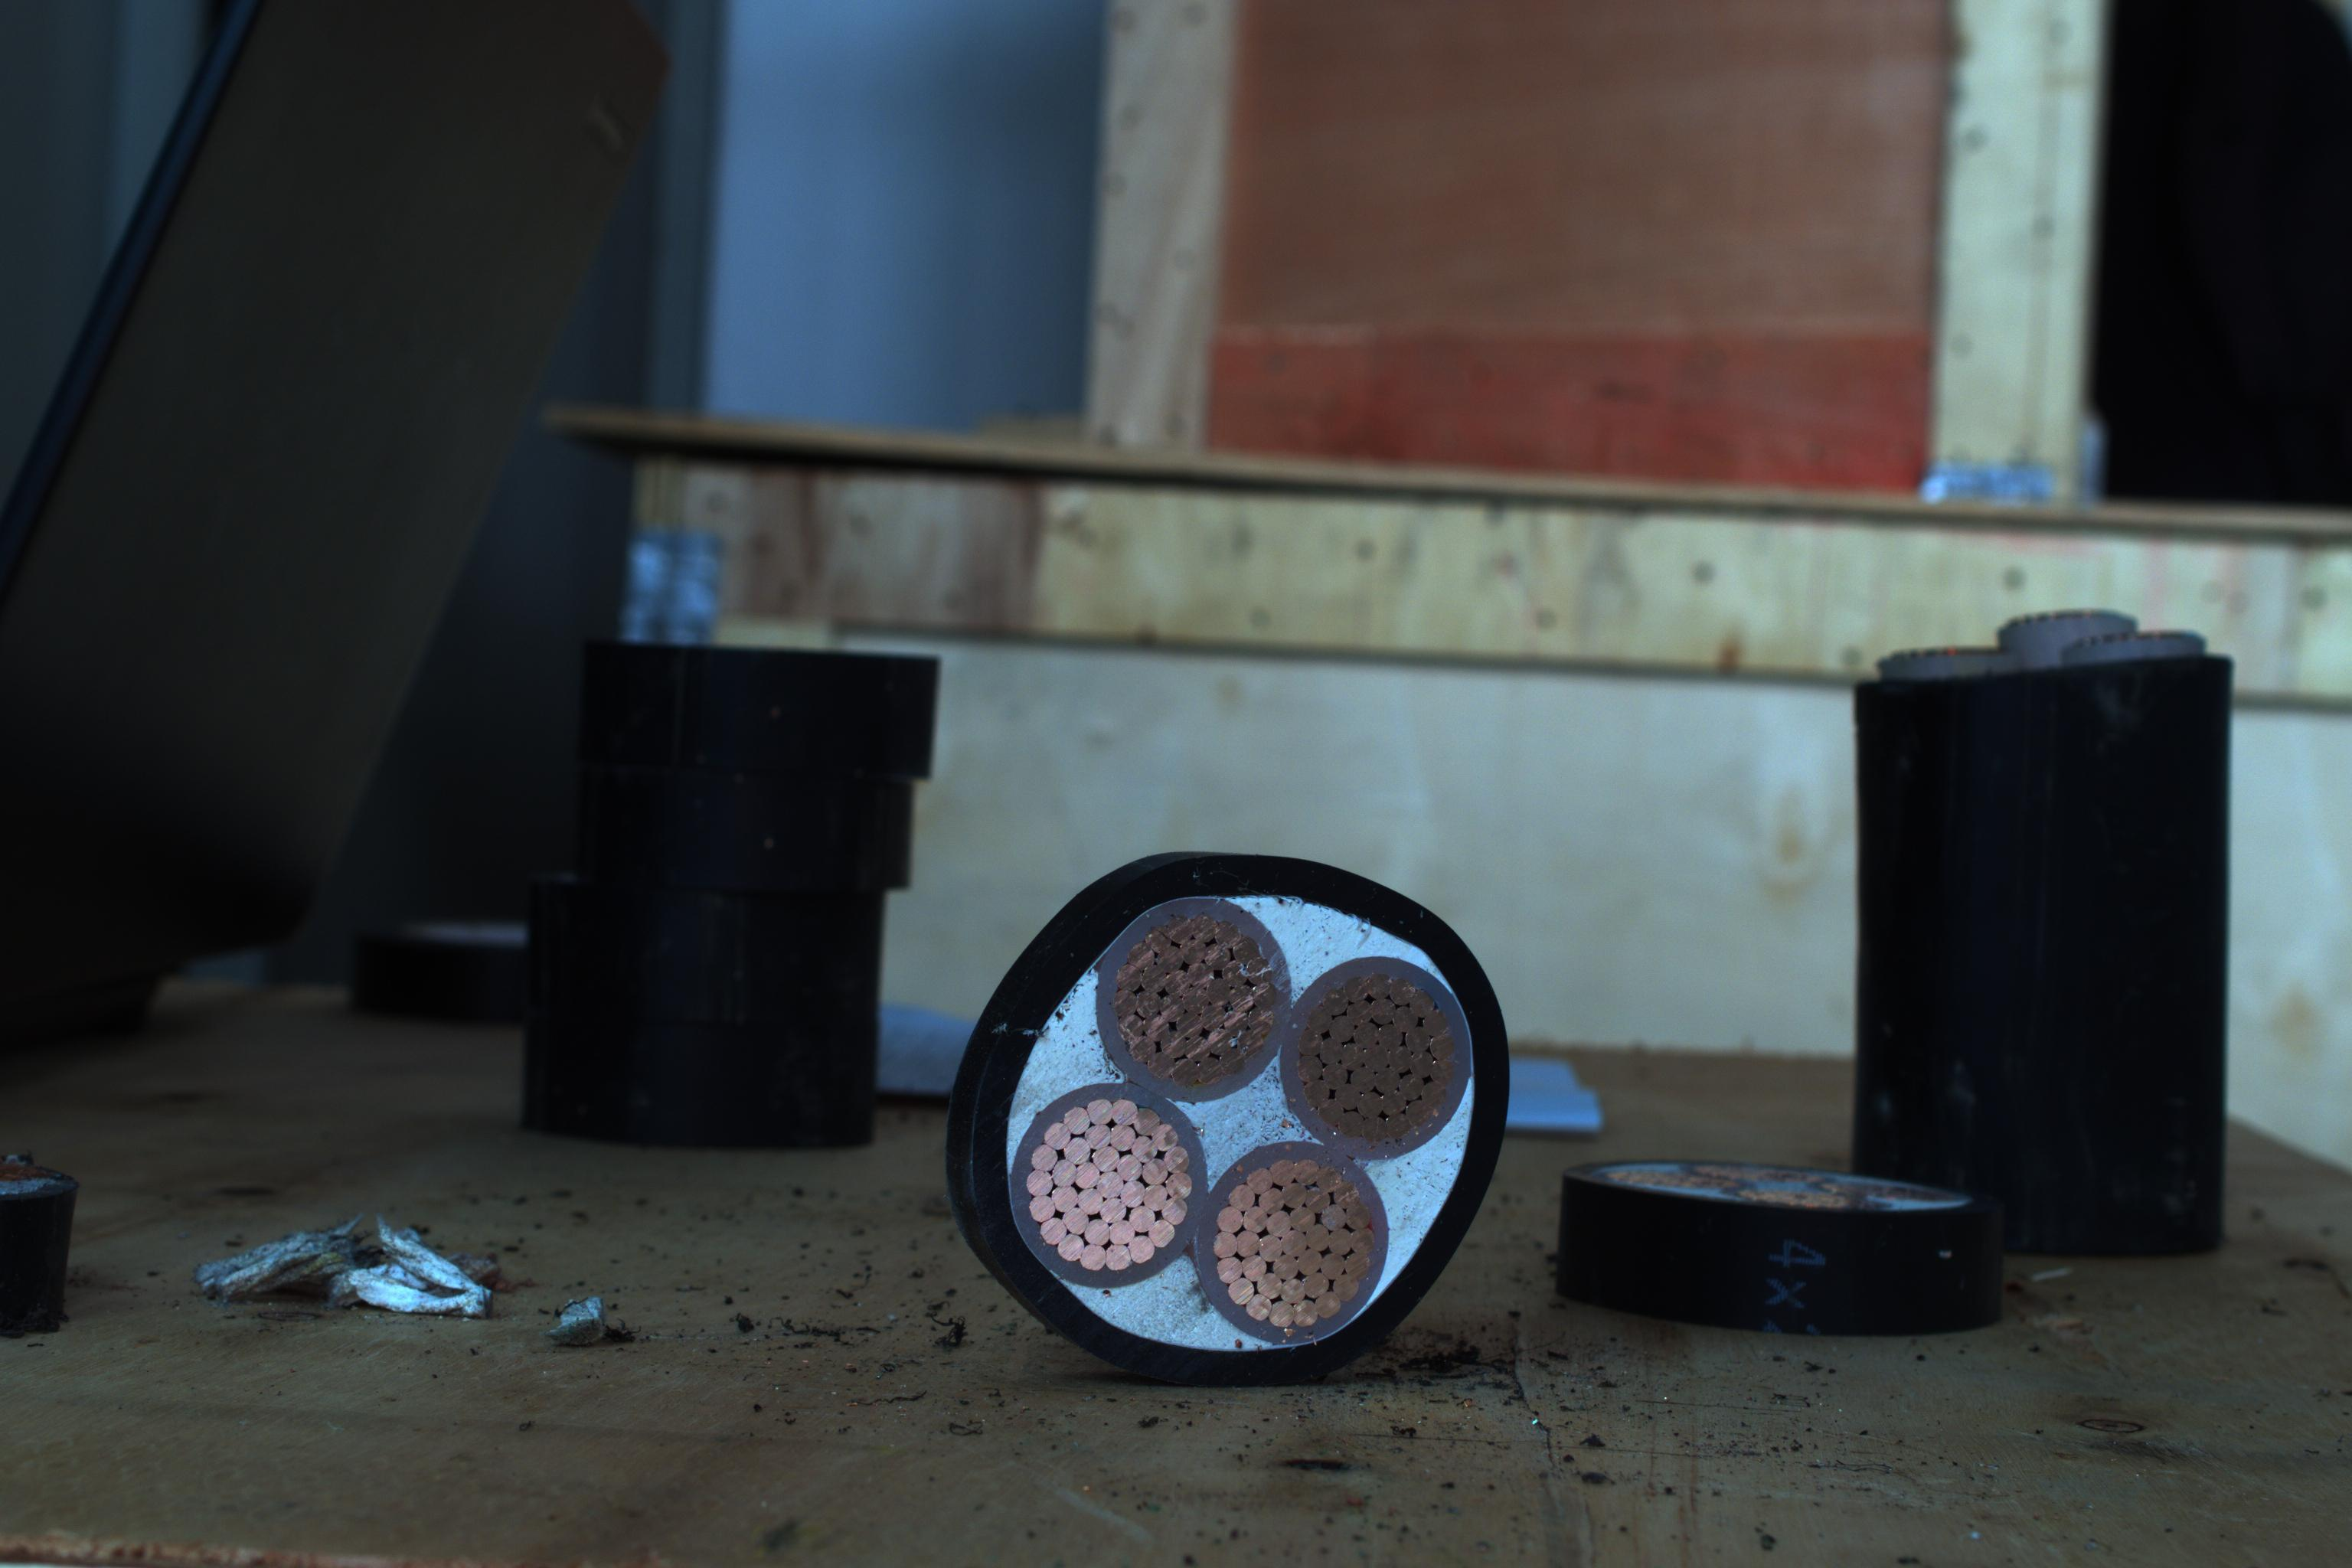YJV_0.6_1kV_4x240: (964, 857, 1529, 1391)
